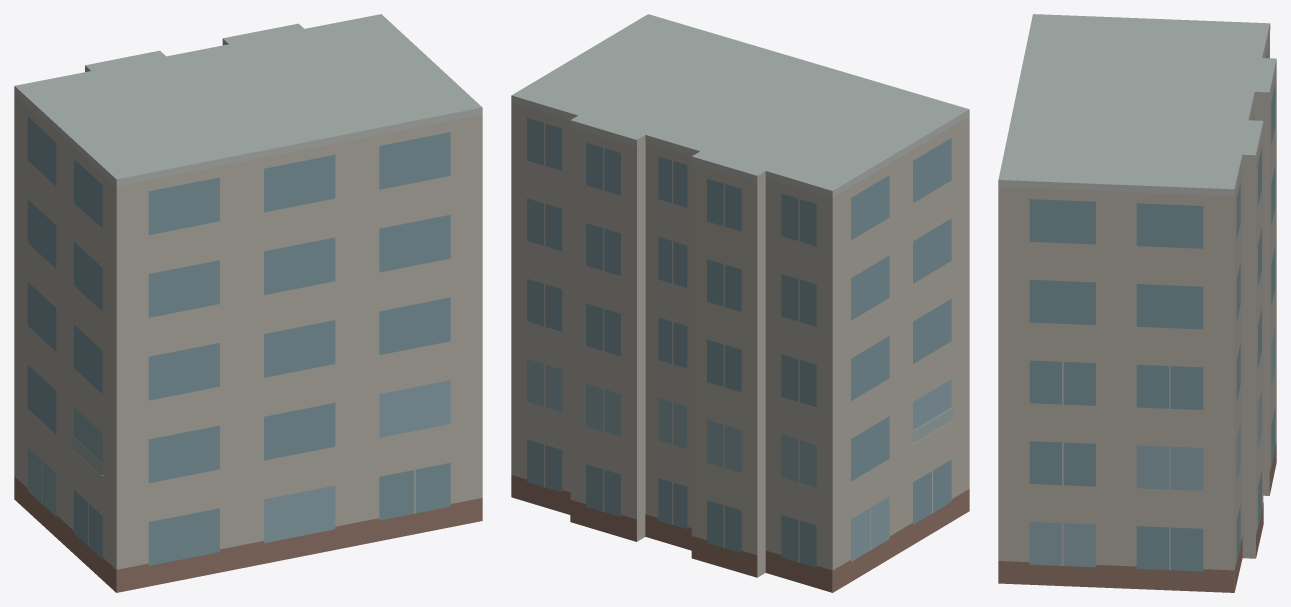
Rendered from survey-upis-32679679.glb.
3 views of the same model, side by side, from view 1: azimuth 30°, elevation 25°; view 2: azimuth 150°, elevation 25°; view 3: azimuth 270°, elevation 25° (orthographic). The views are drawn at different scales.
Parts seen in each view (by area): view 1: survey-upis-32679679.tmp; view 2: survey-upis-32679679.tmp; view 3: survey-upis-32679679.tmp.
Boxes of the visible parts, box(x1,y1,x2,y2) form: survey-upis-32679679.tmp: box(14, 14, 482, 592); survey-upis-32679679.tmp: box(511, 14, 969, 592); survey-upis-32679679.tmp: box(998, 14, 1276, 592).
Size of the model in its own units: 13.34 by 14.3 by 8.95.
